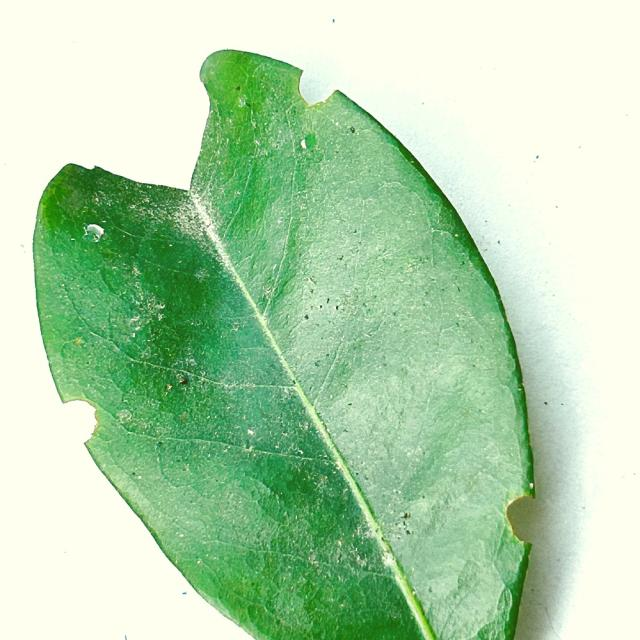Deficiency Leaf: (54, 74, 203, 188), (504, 495, 545, 549), (300, 68, 344, 108), (65, 401, 97, 447)
Lychee: (31, 49, 536, 639)
